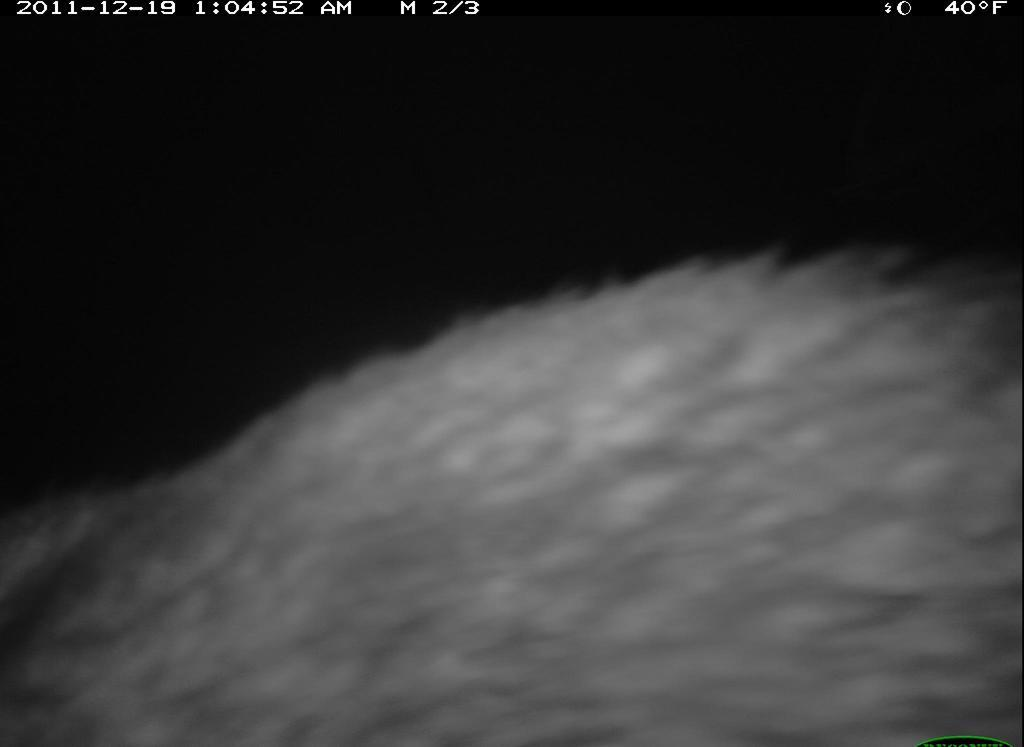raccoon: (4, 217, 1021, 747)
